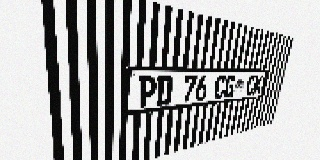6: (194, 75, 209, 101)
7: (181, 75, 197, 103)
C: (213, 75, 227, 99), (245, 75, 256, 96)
D: (155, 76, 173, 106)
G: (223, 75, 236, 98)
K: (252, 75, 263, 95)
P: (138, 76, 157, 108)
